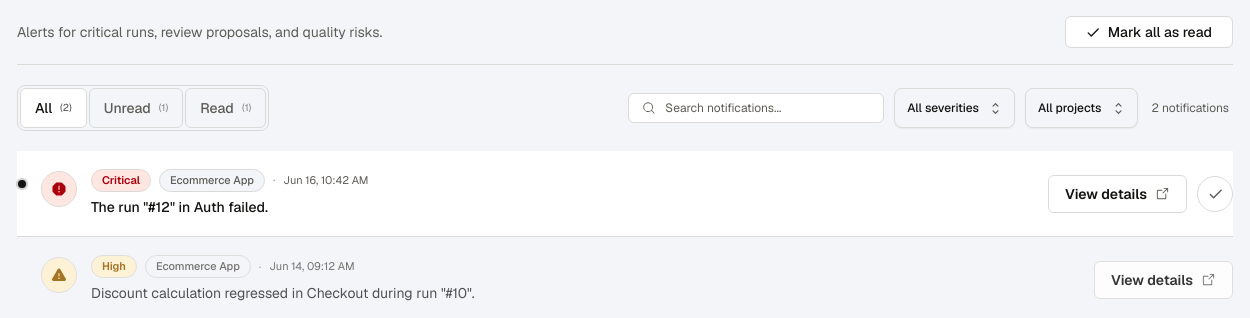
Test: NotificationsPage › renders the interactive notifications center with real notifications and action links
This screenshot has width=1250, height=318.
Expected: the text "The run \"#12\" in Auth failed." is shown, [91, 198, 268, 216]
Expected: the tab "Unread (1)" is shown, [89, 88, 183, 128]
Click the tab "Read (1)": coordinates (226, 108) [185, 88, 266, 128]
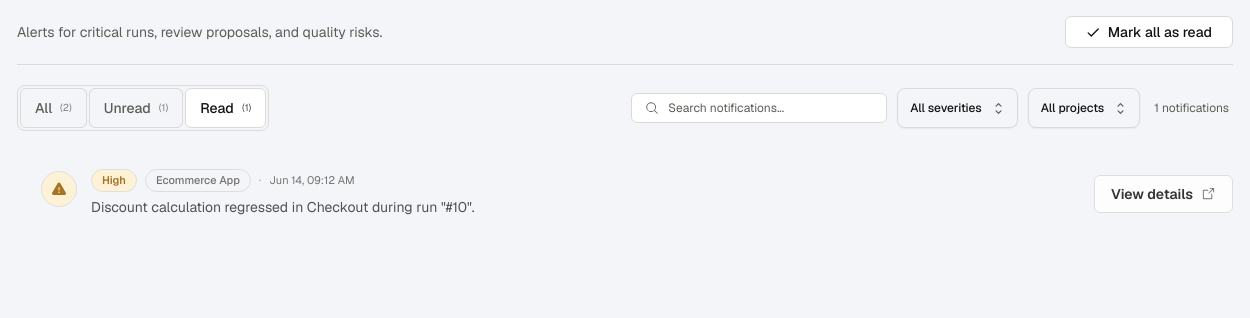
Expected: the text "Discount calculation regressed in Checkout during run \"#10\"." is shown, [91, 198, 475, 216]
Expected: the text "The run \"#12\" in Auth failed." is gone
